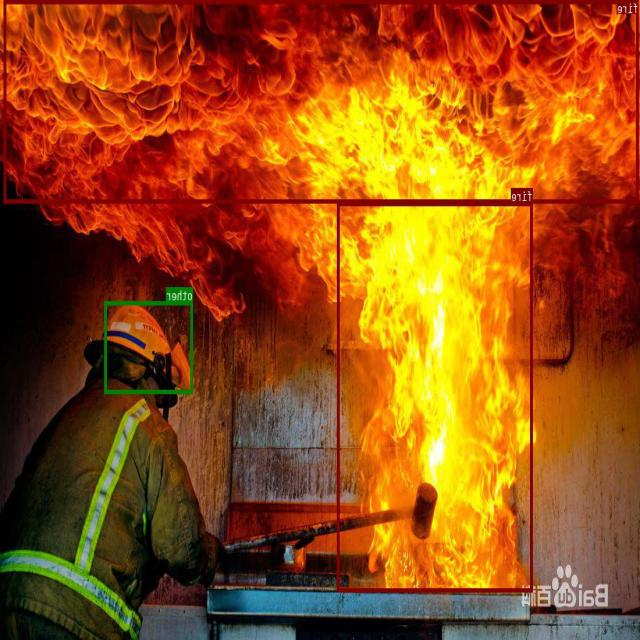fire: (4, 0, 639, 203), (338, 202, 533, 591)
other: (105, 300, 194, 392)
